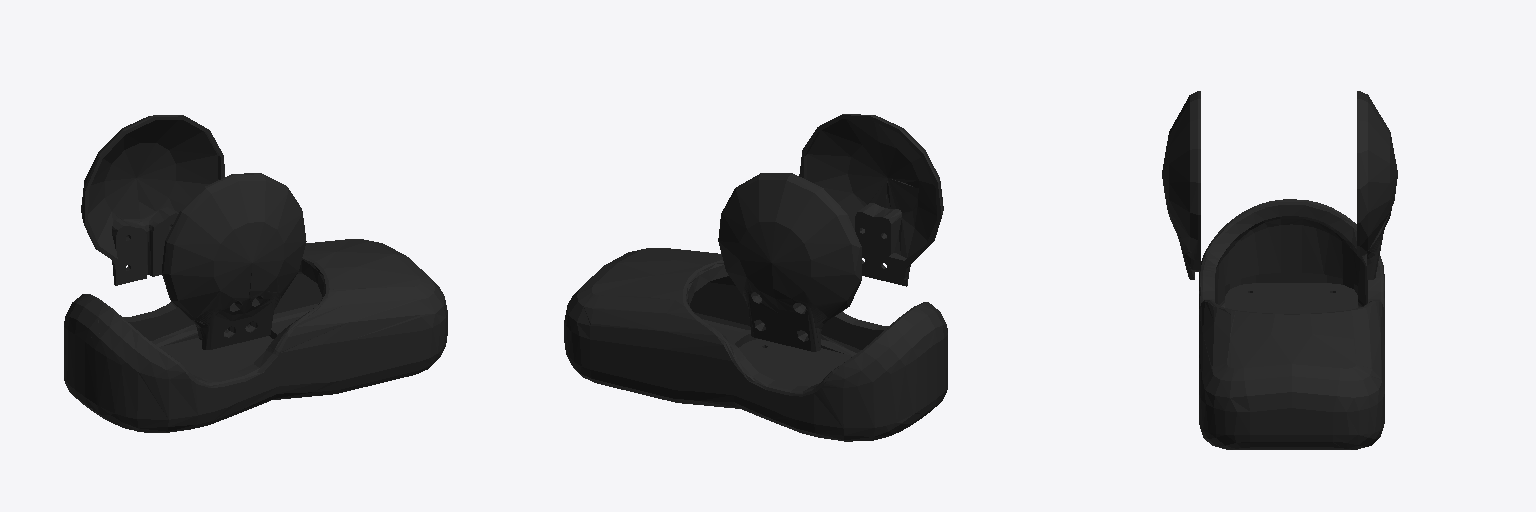
The model's file is asm0001_vrml_15_prt.obj.
3 renders of one model, left to right at view 1: azimuth 30°, elevation 25°; view 2: azimuth 150°, elevation 25°; view 3: azimuth 270°, elevation 25°, orthographic.
Visible parts, largest first — view 1: ShapeIndexedFaceSet.002_ShapeIndexedFaceSet, ShapeIndexedFaceSet.001_ShapeIndexedFaceSet.044, ShapeIndexedFaceSet_ShapeIndexedFaceSet.043; view 2: ShapeIndexedFaceSet.002_ShapeIndexedFaceSet, ShapeIndexedFaceSet_ShapeIndexedFaceSet.043, ShapeIndexedFaceSet.001_ShapeIndexedFaceSet.044; view 3: ShapeIndexedFaceSet.002_ShapeIndexedFaceSet, ShapeIndexedFaceSet_ShapeIndexedFaceSet.043, ShapeIndexedFaceSet.001_ShapeIndexedFaceSet.044.
Boxes of the visible parts, x1=… form: ShapeIndexedFaceSet.002_ShapeIndexedFaceSet: x1=64, y1=239, x2=447, y2=432; ShapeIndexedFaceSet.001_ShapeIndexedFaceSet.044: x1=162, y1=173, x2=306, y2=349; ShapeIndexedFaceSet_ShapeIndexedFaceSet.043: x1=81, y1=115, x2=224, y2=285; ShapeIndexedFaceSet.002_ShapeIndexedFaceSet: x1=564, y1=248, x2=947, y2=441; ShapeIndexedFaceSet_ShapeIndexedFaceSet.043: x1=718, y1=173, x2=861, y2=351; ShapeIndexedFaceSet.001_ShapeIndexedFaceSet.044: x1=799, y1=114, x2=943, y2=286; ShapeIndexedFaceSet.002_ShapeIndexedFaceSet: x1=1199, y1=199, x2=1384, y2=449; ShapeIndexedFaceSet_ShapeIndexedFaceSet.043: x1=1357, y1=91, x2=1397, y2=279; ShapeIndexedFaceSet.001_ShapeIndexedFaceSet.044: x1=1162, y1=91, x2=1200, y2=279.
Size of the model in its own units: 4.83 by 3.43 by 2.91.